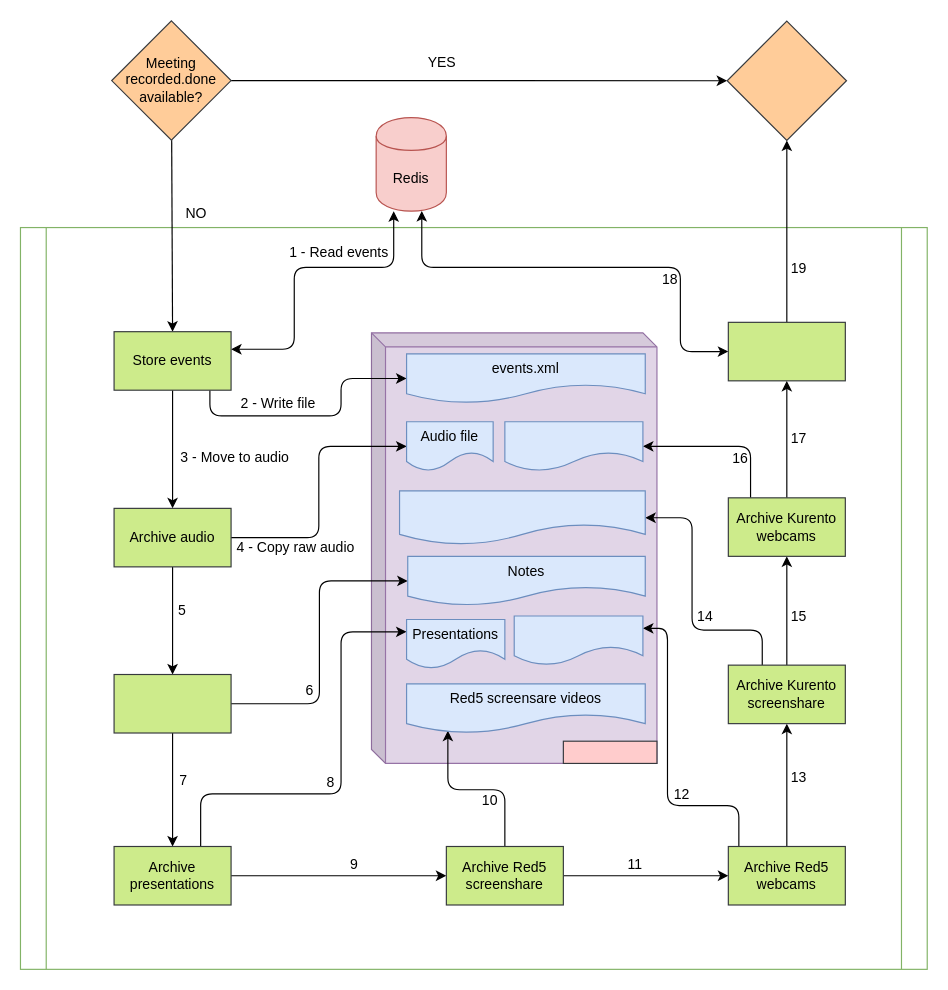
Image size: 948x990. Some labels were removed from this diagram. Each missing label, with the centre of its shape:
Archive notes: pixel 172 703
Delete events: pixel 786 351
Disk Storage: pixel 609 751
Kurento screensare videos: pixel 573 446
Kurento webcam videos: pixel 521 517
Meeting archived.done available?: pixel 786 80
Red5 webcam videos: pixel 578 640
